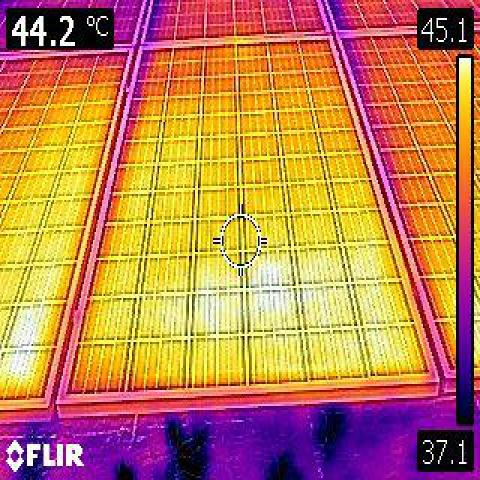fault: (0, 303, 43, 384), (244, 259, 301, 317)
